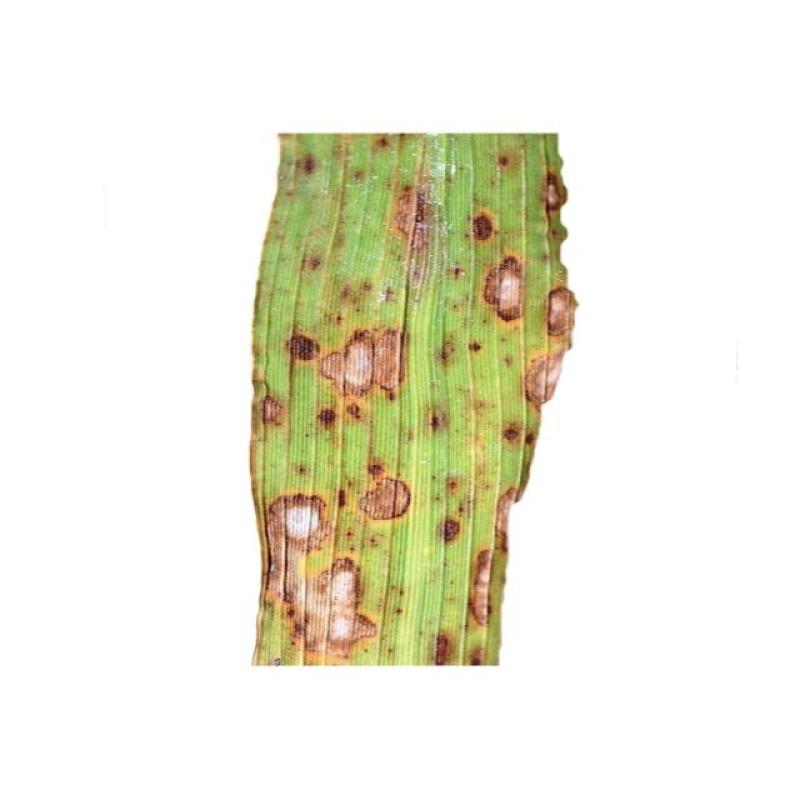Leaf_Blast: (453, 314, 595, 652), (254, 465, 358, 665), (322, 279, 428, 455), (475, 236, 541, 336)
